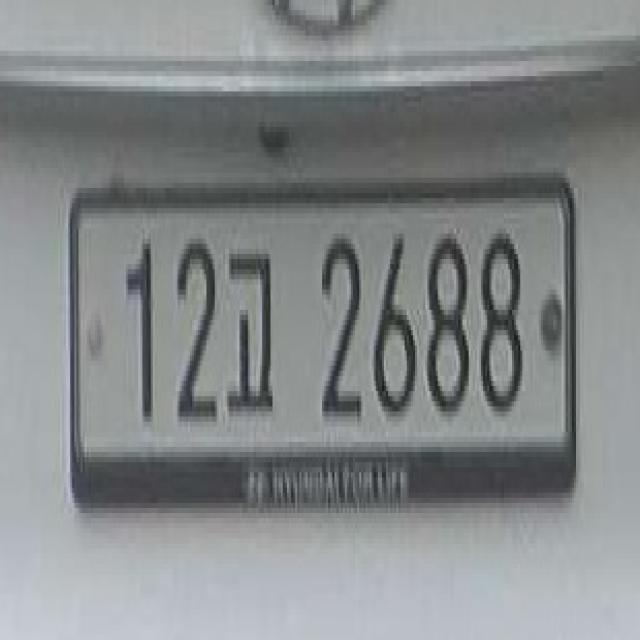1: (122, 213, 167, 437)
2: (171, 218, 223, 432), (316, 228, 367, 442)
6: (372, 228, 419, 426)
8: (475, 218, 528, 422), (423, 224, 475, 426)
go: (225, 223, 283, 432)
license_plate: (64, 158, 582, 523)
